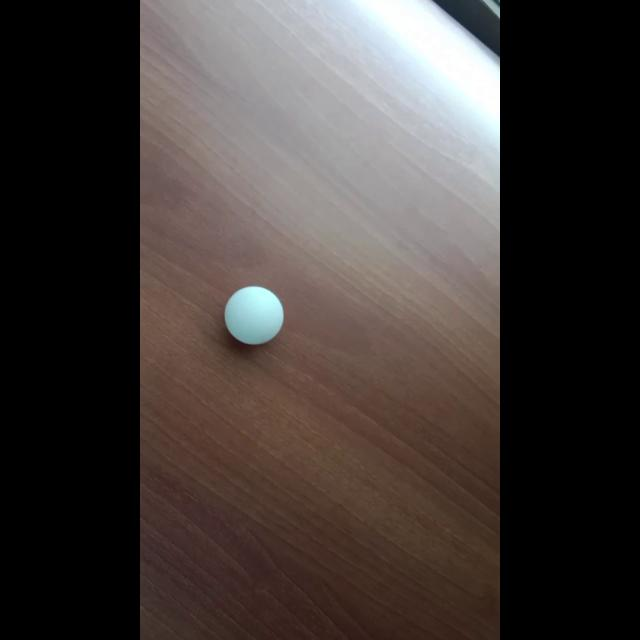white ball: (224, 285, 284, 345)
